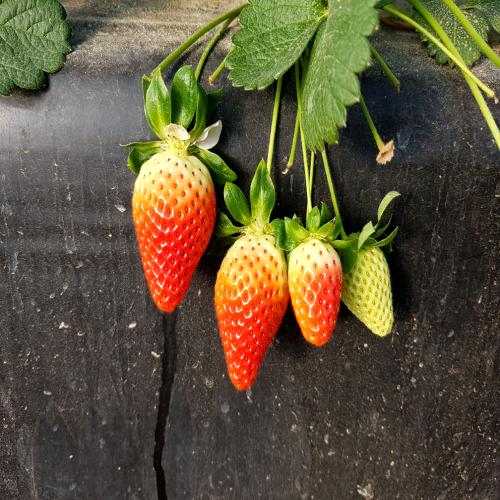partially-ripe: (128, 131, 215, 323), (219, 224, 286, 397), (286, 229, 346, 352)
unripe: (344, 226, 418, 339)
